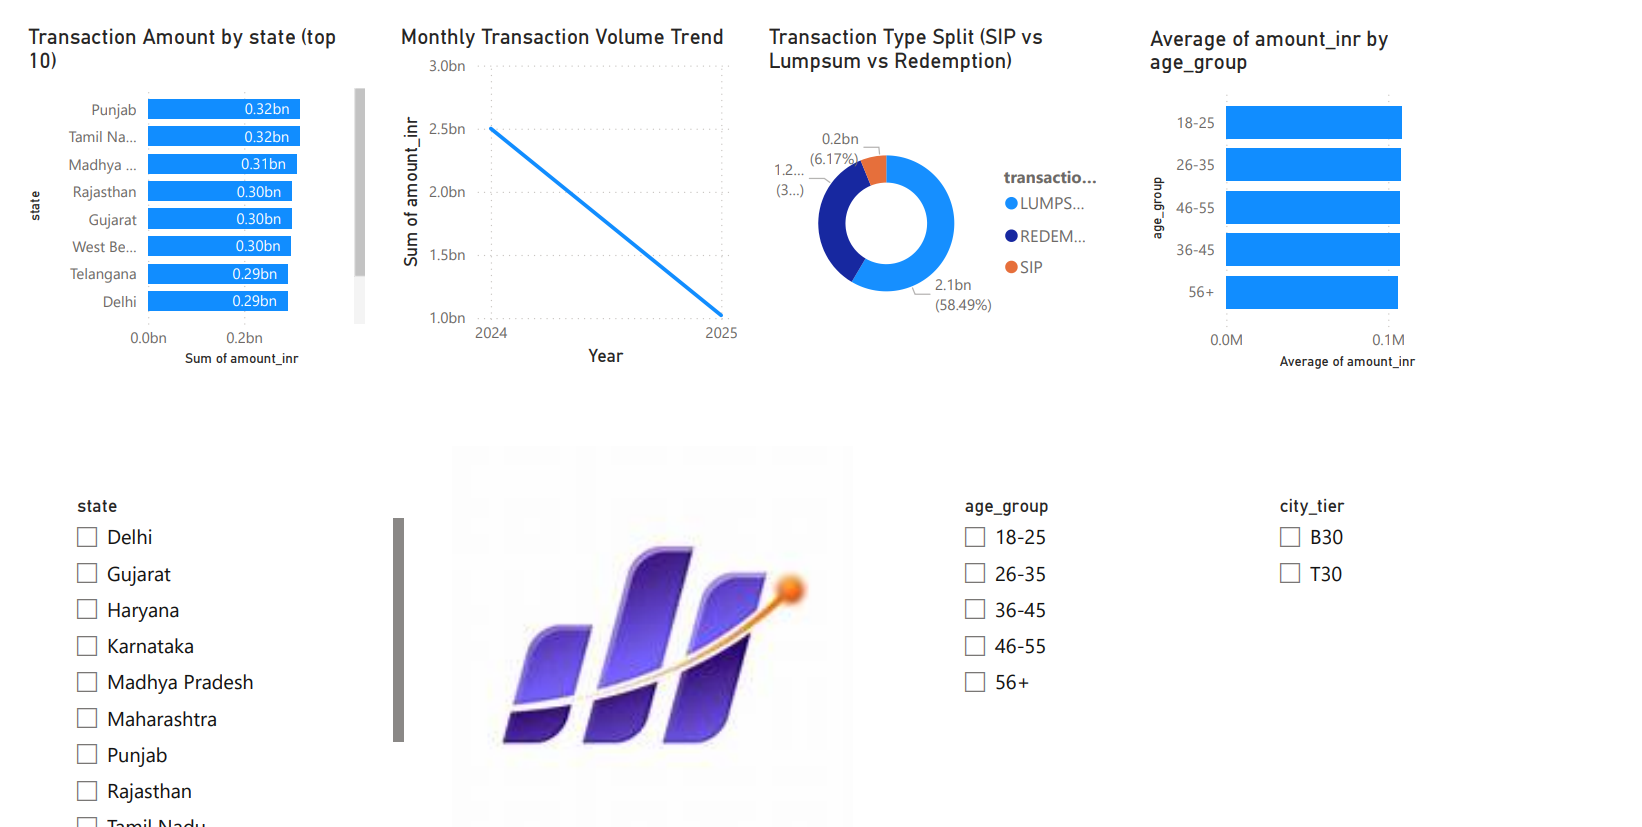

Layout of this report page (visuals, bound fields, positions):
{"tool":"powerbi","page":{"name":"Investor  Analytics","canvas":[1280,720],"ordinal":2},"visuals":[{"type":"clusteredBarChart","title":"Transaction Amount by state (top 10)","fields":{"Category":["02_investor_transactions.state"],"Y":["Sum(02_investor_transactions.amount_inr)"]},"box":[0,37.1,279.4,279.4],"z":0},{"type":"donutChart","title":"Transaction Type Split (SIP vs Lumpsum vs Redemption)","fields":{"Category":["02_investor_transactions.transaction_type"],"Y":["Sum(02_investor_transactions.amount_inr)"]},"box":[591.5,37.1,279.4,280.8],"z":1000},{"type":"clusteredBarChart","fields":{"Category":["02_investor_transactions.age_group"],"Y":["Avg(02_investor_transactions.amount_inr)"]},"box":[896.6,38.5,279.4,279.4],"z":1001},{"type":"lineChart","title":"Monthly Transaction Volume Trend","fields":{"Y":["Sum(02_investor_transactions.amount_inr)"],"Category":["02_investor_transactions.transaction_date.Variation.Date Hierarchy.Year","02_investor_transactions.transaction_date.Variation.Date Hierarchy.Quarter","02_investor_transactions.transaction_date.Variation.Date Hierarchy.Month","02_investor_transactions.transaction_date.Variation.Date Hierarchy.Day"]},"box":[297.9,37.1,279.4,279.4],"z":1002},{"type":"slicer","fields":{"Values":["02_investor_transactions.state"]},"box":[31,409,279,279],"z":1003},{"type":"slicer","fields":{"Values":["02_investor_transactions.age_group"]},"box":[741.2,409.1,252.3,279.4],"z":1004},{"type":"slicer","fields":{"Values":["02_investor_transactions.city_tier"]},"box":[993.5,409.1,215.2,279.4],"z":1005},{"type":"image","box":[343.5,372,320.7,326.4],"z":1006}]}

Visuals, with their boxes on the page's 1280x720 design canvas (x1, y1, x2, y2). These are canvas units, not pixel positions in the 1642x827 screenshot, which may show the page scaled, cropped or inside an application window:
"Transaction Amount by state (top 10)" clusteredBarChart: 0, 37, 279, 316
"Transaction Type Split (SIP vs Lumpsum vs Redemption)" donutChart: 592, 37, 871, 318
clusteredBarChart - 02_investor_transactions.age_group x Avg(02_investor_transactions.amount_inr): 897, 38, 1176, 318
"Monthly Transaction Volume Trend" lineChart: 298, 37, 577, 316
slicer - 02_investor_transactions.state: 31, 409, 310, 688
slicer - 02_investor_transactions.age_group: 741, 409, 994, 688
slicer - 02_investor_transactions.city_tier: 994, 409, 1209, 688
image: 344, 372, 664, 698
